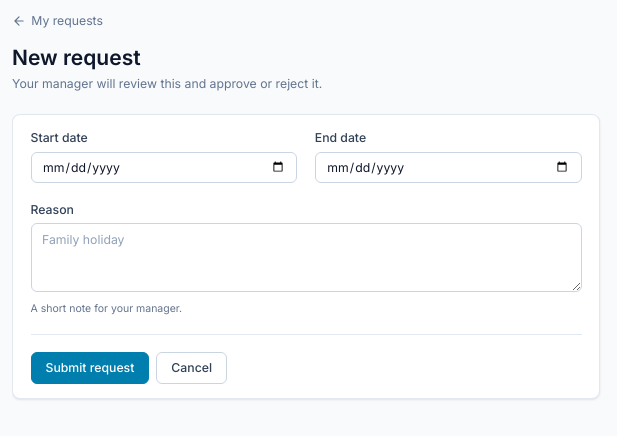
Test: NewRequestPage › blocks an end date before the start date, without hitting the API
In the date field labelled "Start date": (164, 167) x1=30 y1=152 x2=297 y2=183, type "2026-09-14"
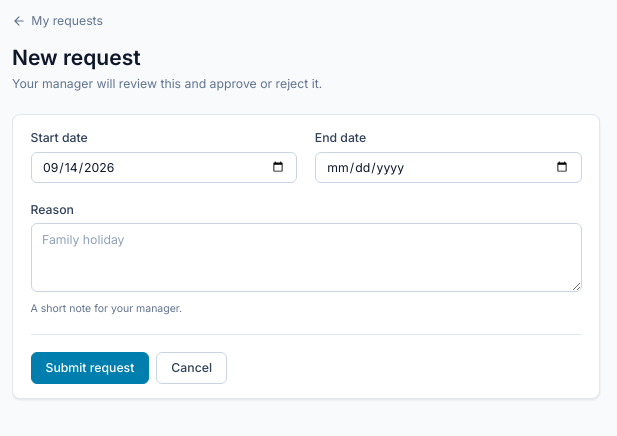
In the date field labelled "End date": (448, 167) x1=315 y1=152 x2=582 y2=183, type "2026-09-10"
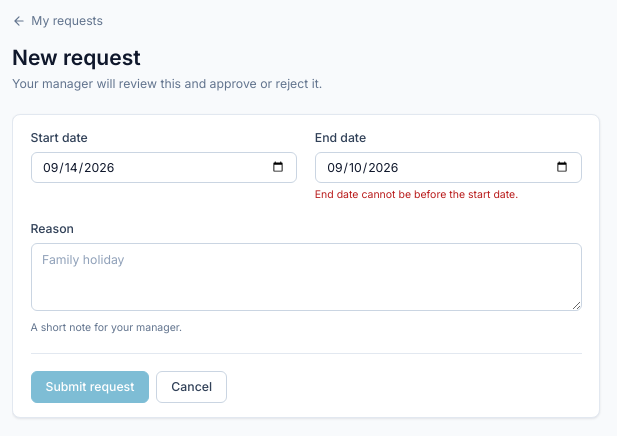
Result: the text "End date cannot be before the start date." is shown at x1=315 y1=188 x2=518 y2=201
Result: the button "Submit request" is disabled at x1=30 y1=371 x2=149 y2=403
